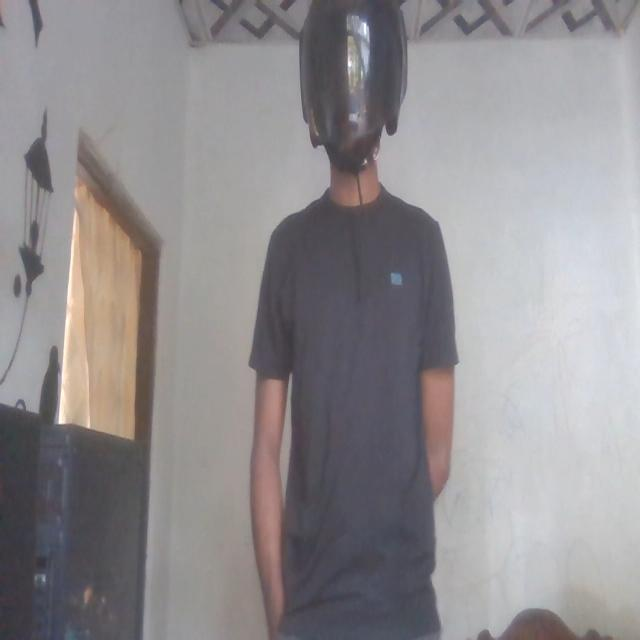Helmet_Wearer: (297, 0, 410, 205)
Person: (243, 0, 459, 640)
